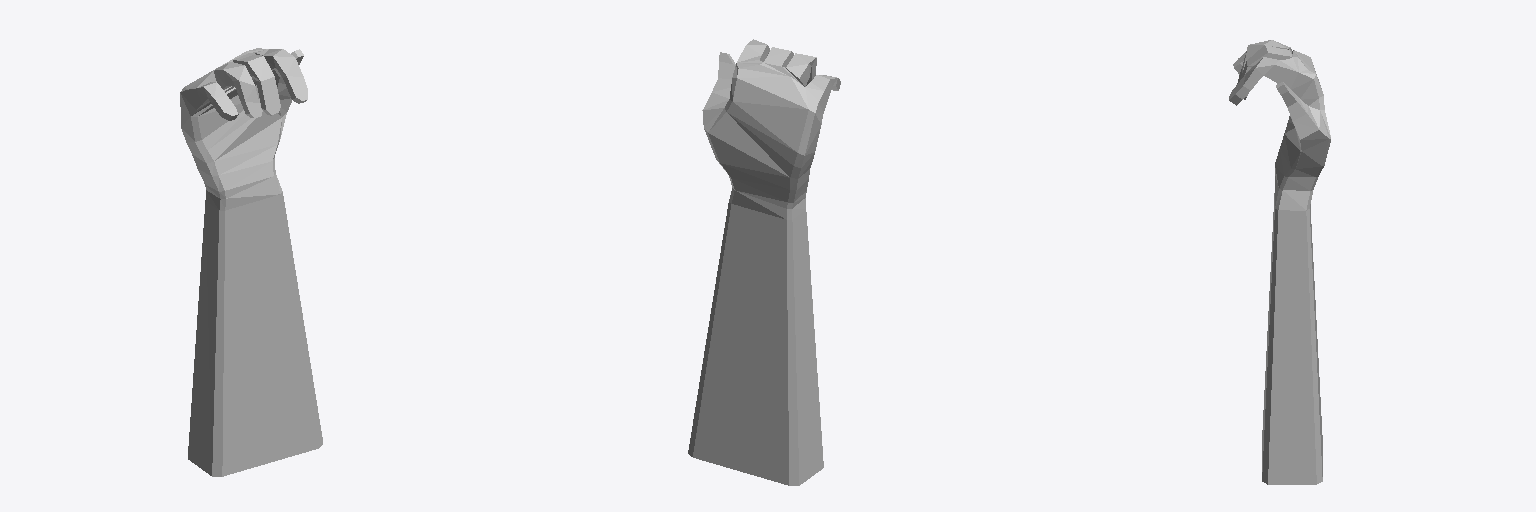
File: hand_anim11.obj
3 renders of one model, left to right at view 1: azimuth 30°, elevation 25°; view 2: azimuth 150°, elevation 25°; view 3: azimuth 270°, elevation 25°, orthographic.
Visible parts, largest first — view 1: Cube.001; view 2: Cube.001; view 3: Cube.001.
Part boxes in pixels (x1,y1,x2,y2): Cube.001: (180,48,322,476); Cube.001: (688,39,840,485); Cube.001: (1229,40,1330,484).
Size of the model in its own units: 0.9113 by 2.89 by 0.66.